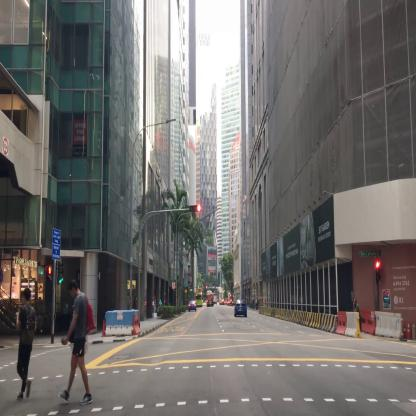red_traffic_light: (189, 204, 201, 212), (376, 261, 380, 282)
